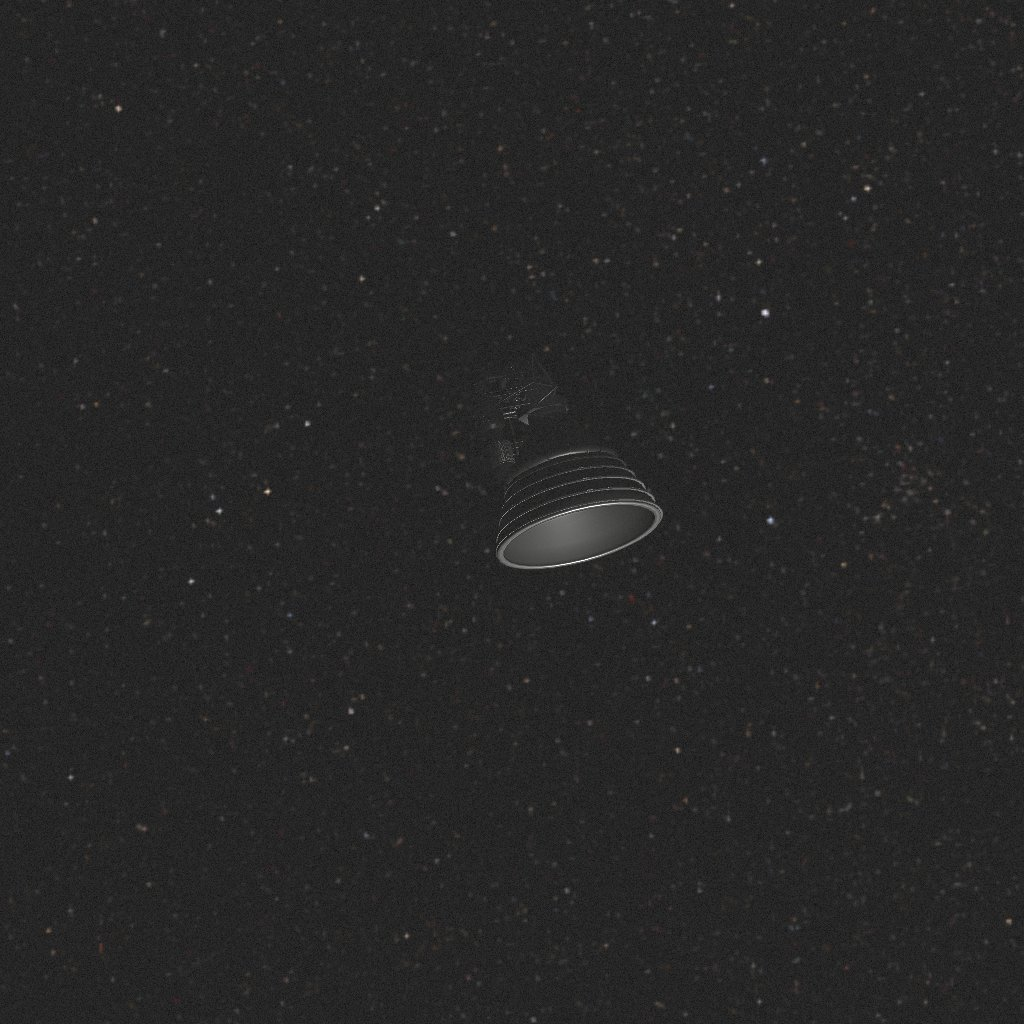debris: (473, 353, 663, 569)
